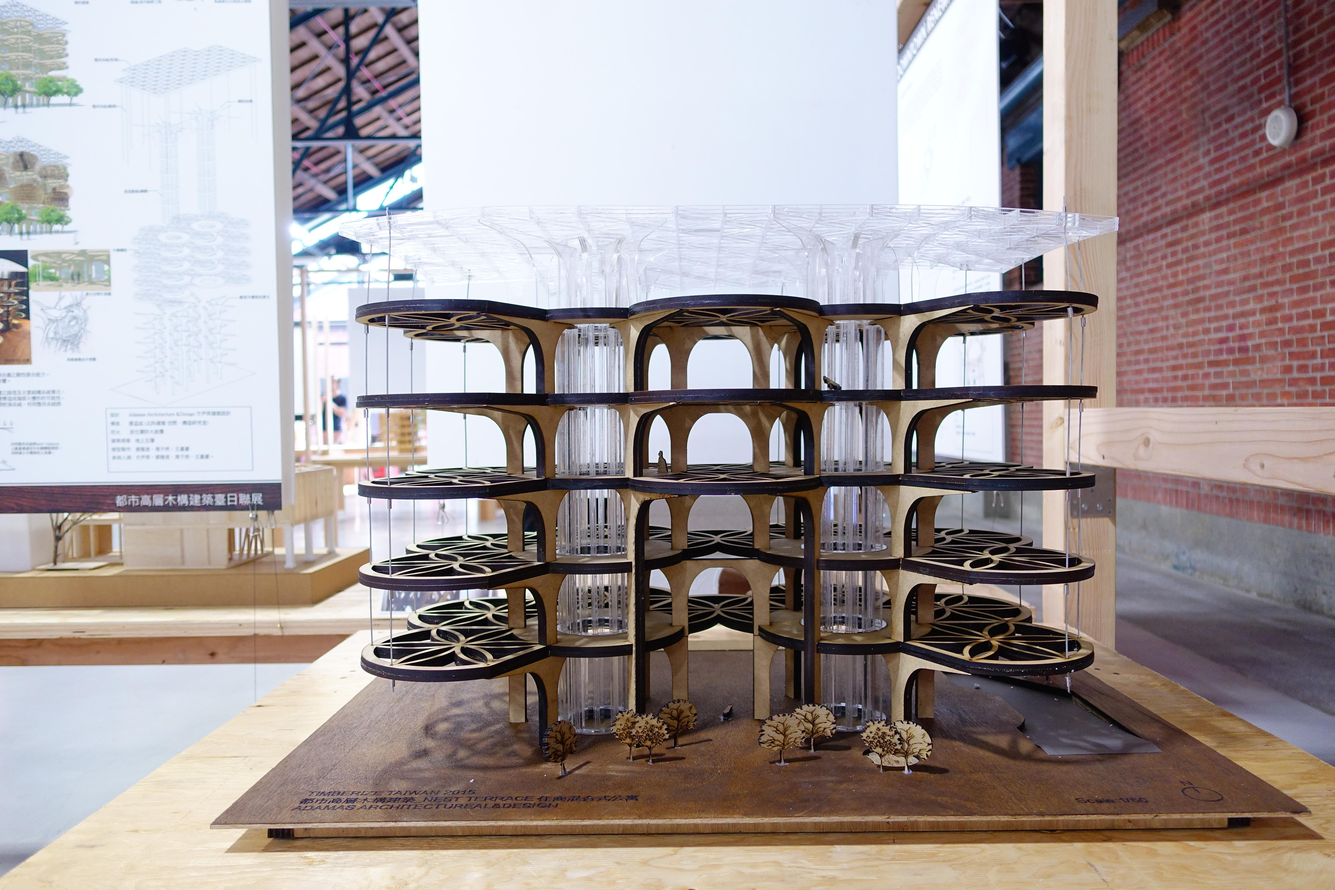Computer-monitor: (1, 0, 295, 518)
Luggage-and-bags: (345, 204, 1128, 766)
